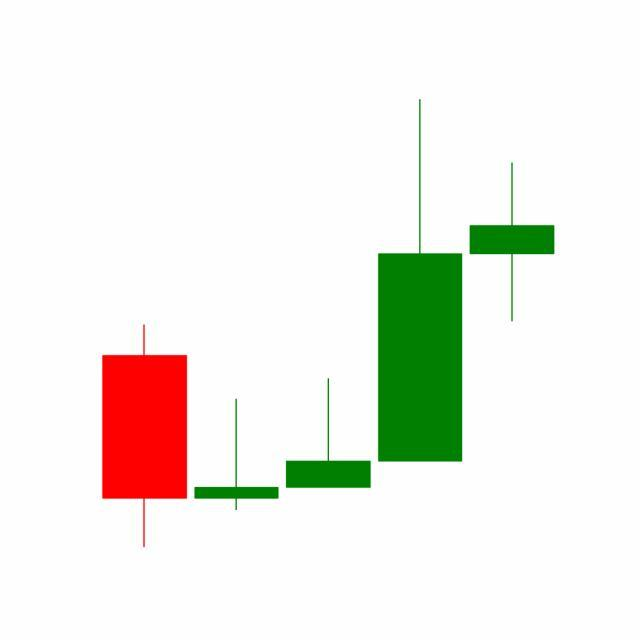Spinning Top: (466, 161, 559, 324)
